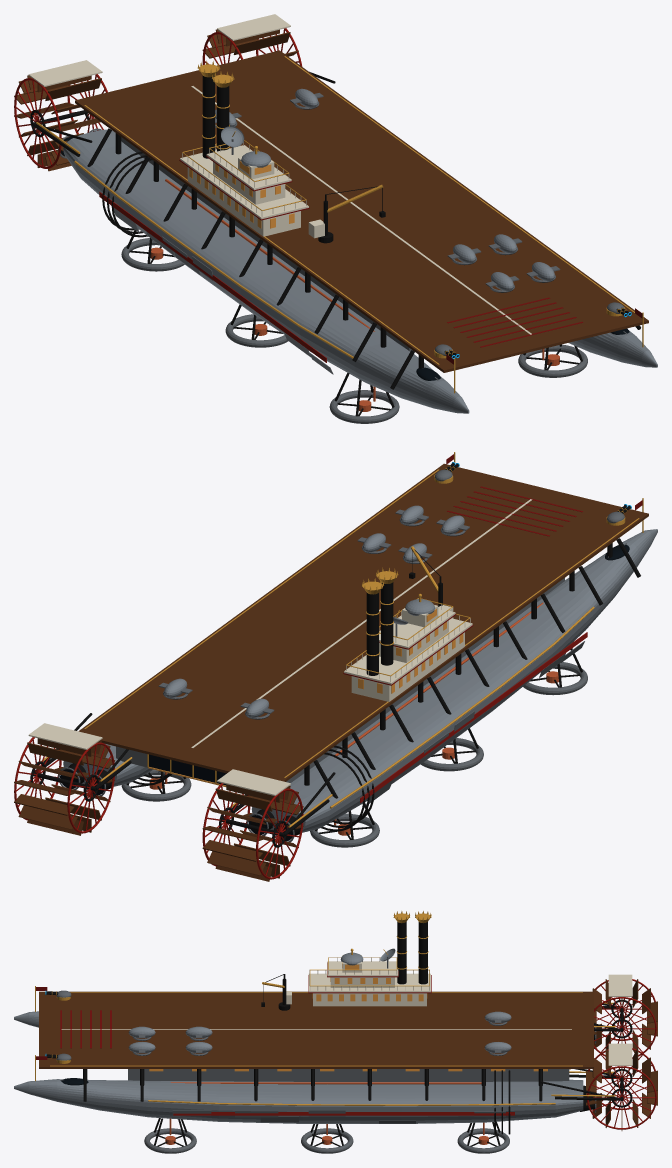
Rendered from carrier.obj.
3 renders of one model, top to bottom at view 1: azimuth 30°, elevation 25°; view 2: azimuth 150°, elevation 25°; view 3: azimuth 270°, elevation 25°, orthographic. The views are drawn at different scales.
Parts seen in each view (by area): view 1: carrier; view 2: carrier; view 3: carrier.
Boxes of the visible parts, x1,y1,x2,y2 form: carrier: [14, 14, 657, 423]; carrier: [14, 452, 657, 881]; carrier: [14, 911, 657, 1153].
Bounding box in the file's own units: 394 × 312 × 1100.
1 material, 1 textured.
